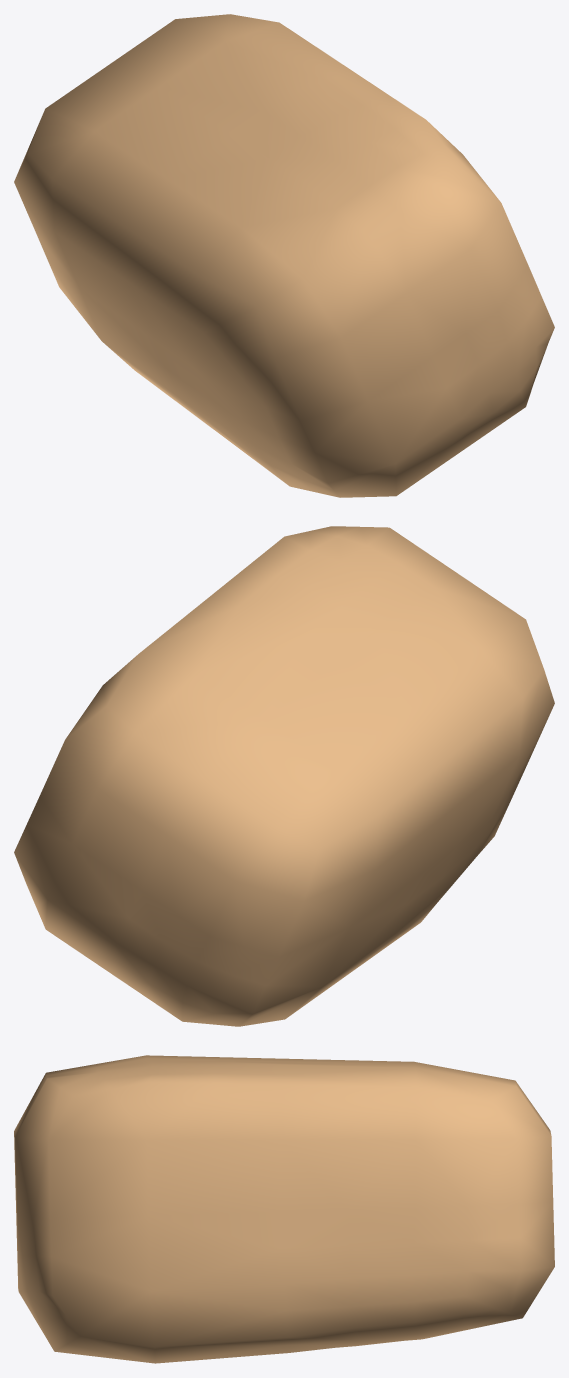
File: pinky_01_r.dae
3 renders of one model, top to bottom at view 1: azimuth 30°, elevation 25°; view 2: azimuth 150°, elevation 25°; view 3: azimuth 270°, elevation 25°, orthographic. The views are drawn at different scales.
Parts seen in each view (by area): view 1: skin_geo_pinky_01_r; view 2: skin_geo_pinky_01_r; view 3: skin_geo_pinky_01_r.
Boxes of the visible parts, <box> form: skin_geo_pinky_01_r: <box>14,14,554,497</box>; skin_geo_pinky_01_r: <box>14,526,554,1026</box>; skin_geo_pinky_01_r: <box>14,1055,554,1363</box>.
Bounding box in the file's own units: 0.0221 × 0.0339 × 0.0218.
